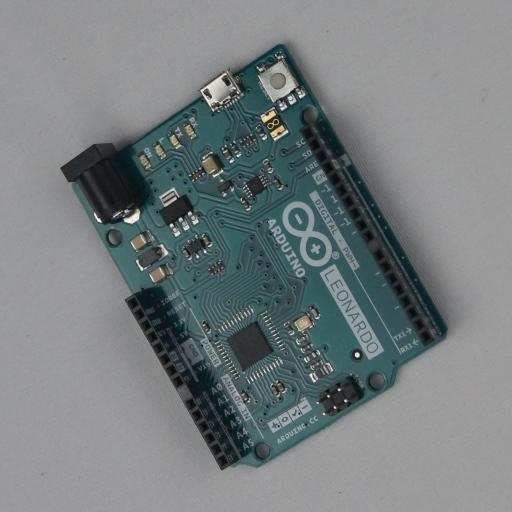Arduino Leonardo: (60, 43, 450, 470)
